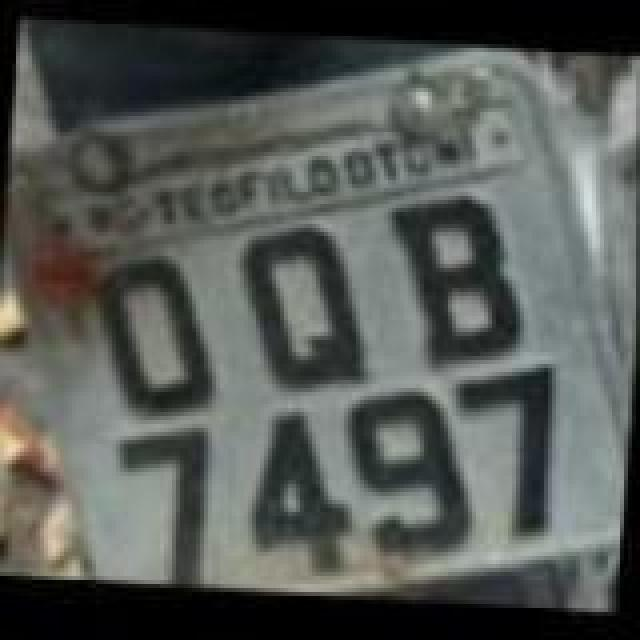4: (240, 400, 372, 588)
7: (448, 362, 568, 546), (102, 428, 222, 592)
9: (340, 380, 484, 572)
B: (372, 180, 536, 380)
O: (84, 248, 232, 428)
Q: (226, 212, 378, 400)
